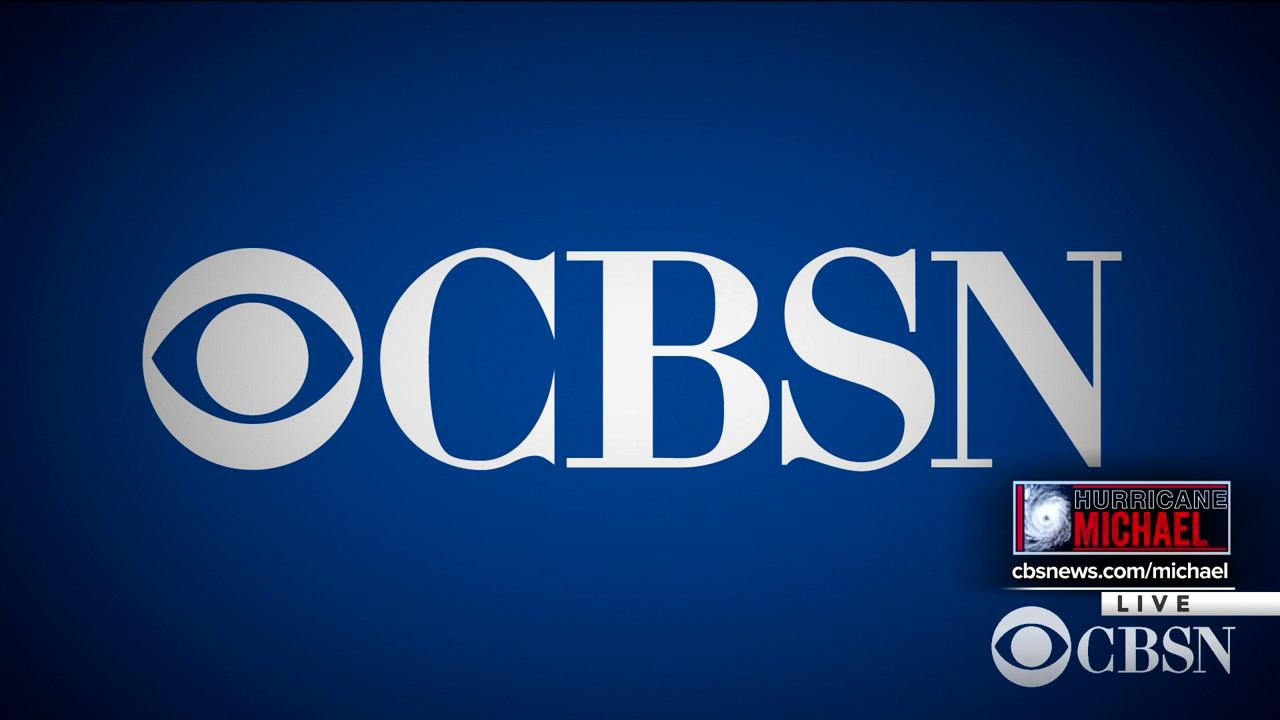CBSN: (374, 245, 1124, 474)
HURRICANE: (1072, 487, 1228, 509)
LIVE: (1076, 626, 1236, 676), (1113, 591, 1193, 613)
MICHAEL: (1074, 510, 1211, 549)
cbsnews.com/michael: (1008, 562, 1231, 583)
